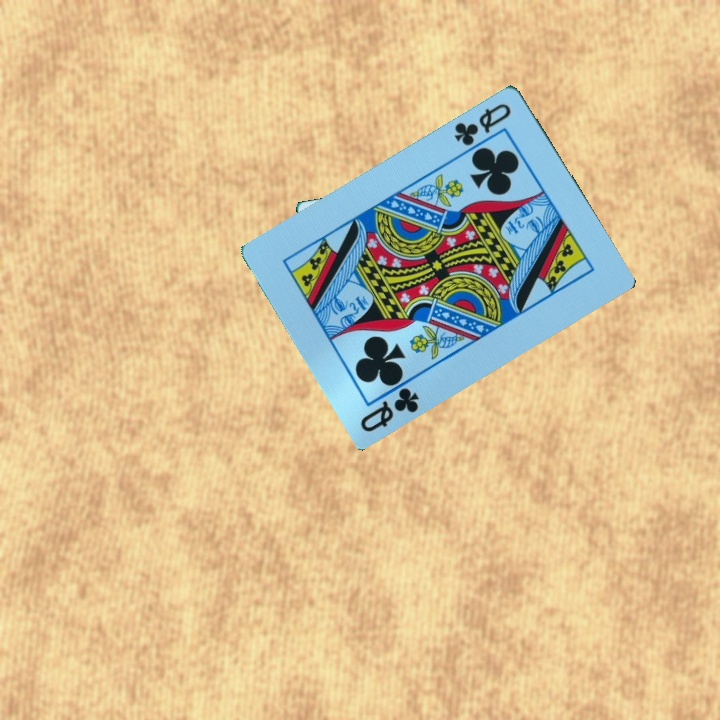Qc: (357, 383, 423, 435), (450, 99, 515, 149)
